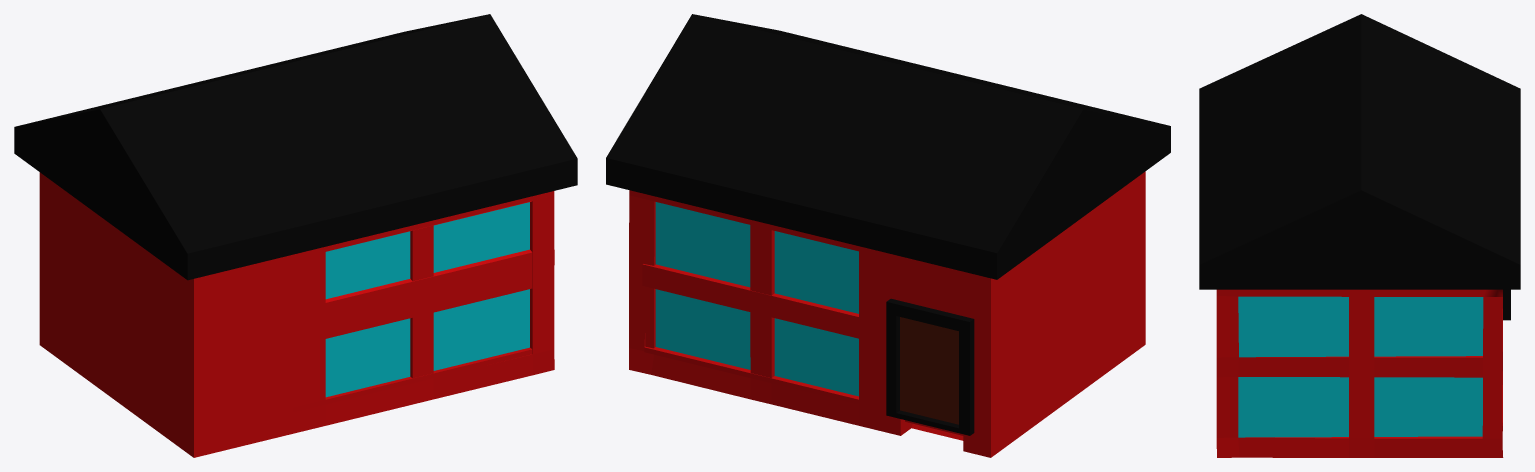
The model's file is Village_Apartment_1.fbx.
3 views of the same model, side by side, from view 1: azimuth 30°, elevation 25°; view 2: azimuth 150°, elevation 25°; view 3: azimuth 270°, elevation 25° (orthographic). The views are drawn at different scales.
Parts seen in each view (by area): view 1: Village_Apartment_1; view 2: Village_Apartment_1; view 3: Village_Apartment_1.
Boxes of the visible parts, box(x1,y1,x2,y2) form: Village_Apartment_1: box(14, 14, 577, 457); Village_Apartment_1: box(606, 14, 1170, 457); Village_Apartment_1: box(1199, 14, 1520, 457).
Bounding box in the file's own units: 817 × 592 × 629.
